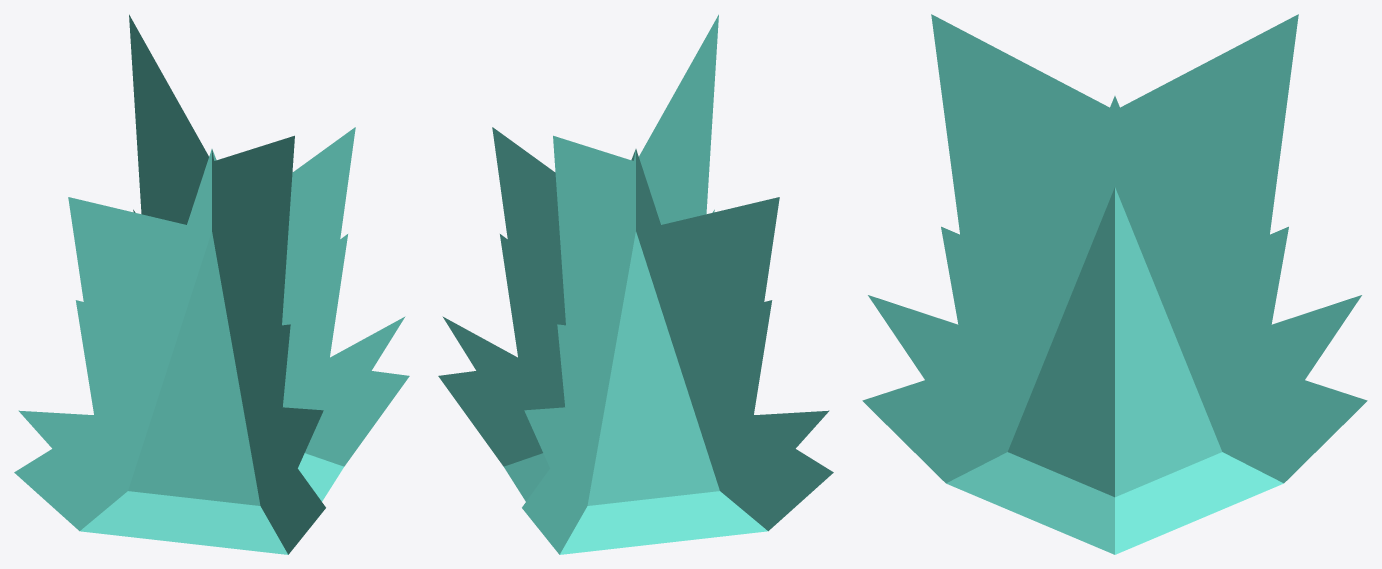
The model's file is ferns.glb.
3 views of the same model, side by side, from view 1: azimuth 30°, elevation 25°; view 2: azimuth 150°, elevation 25°; view 3: azimuth 270°, elevation 25° (orthographic). The views are drawn at different scales.
Visible parts, largest first — view 1: plant_flatTall, plant_flatShort; view 2: plant_flatTall, plant_flatShort; view 3: plant_flatTall, plant_flatShort.
Boxes of the visible parts, bbox=[...] form: plant_flatTall: bbox=[18, 14, 405, 525]; plant_flatShort: bbox=[14, 149, 409, 554]; plant_flatTall: bbox=[442, 14, 829, 525]; plant_flatShort: bbox=[438, 149, 833, 554]; plant_flatTall: bbox=[868, 14, 1361, 497]; plant_flatShort: bbox=[862, 96, 1367, 554].
Size of the model in its own units: 0.2776 by 0.2843 by 0.2776.
